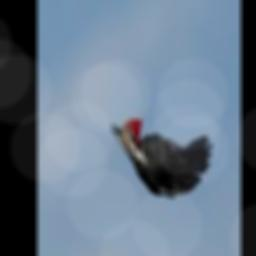Woodpecker: (111, 118, 215, 196)
